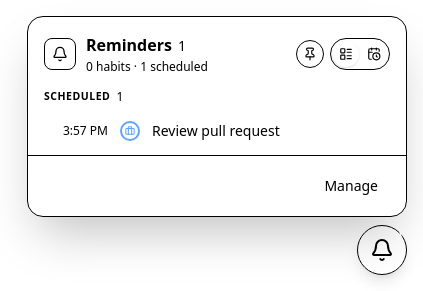
Test: ReminderWidget › still collapses via the bell button when pinned
Check: the text "0 habits · 1 scheduled" is shown, box x1=86 y1=59 x2=208 y2=75
Click the button named "Click to collapse": x=382, y=250 x1=357 y1=225 x2=407 y2=275
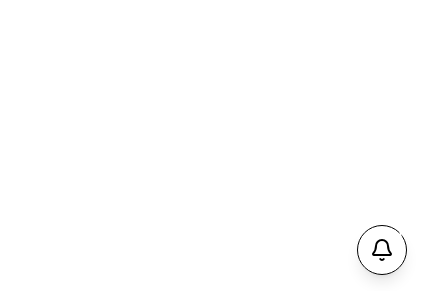
Check: the text "habits ·" is gone
